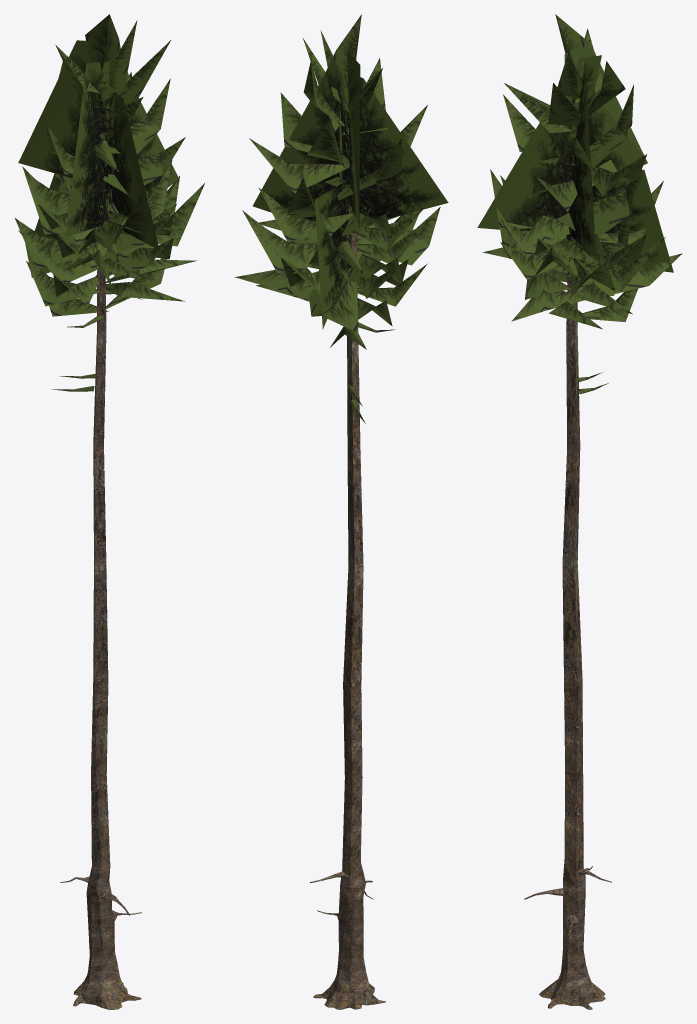
The model's file is spruce_1.dae.
3 views of the same model, side by side, from view 1: azimuth 30°, elevation 25°; view 2: azimuth 150°, elevation 25°; view 3: azimuth 270°, elevation 25° (orthographic).
Visible parts, largest first — view 1: Mesh_Object; view 2: Mesh_Object; view 3: Mesh_Object.
Part boxes in pixels (<box>): Mesh_Object: <box>15,14,204,1009</box>; Mesh_Object: <box>235,14,448,1009</box>; Mesh_Object: <box>477,14,682,1009</box>.
Bounding box in the file's own units: 3.21 × 18.32 × 3.48.
